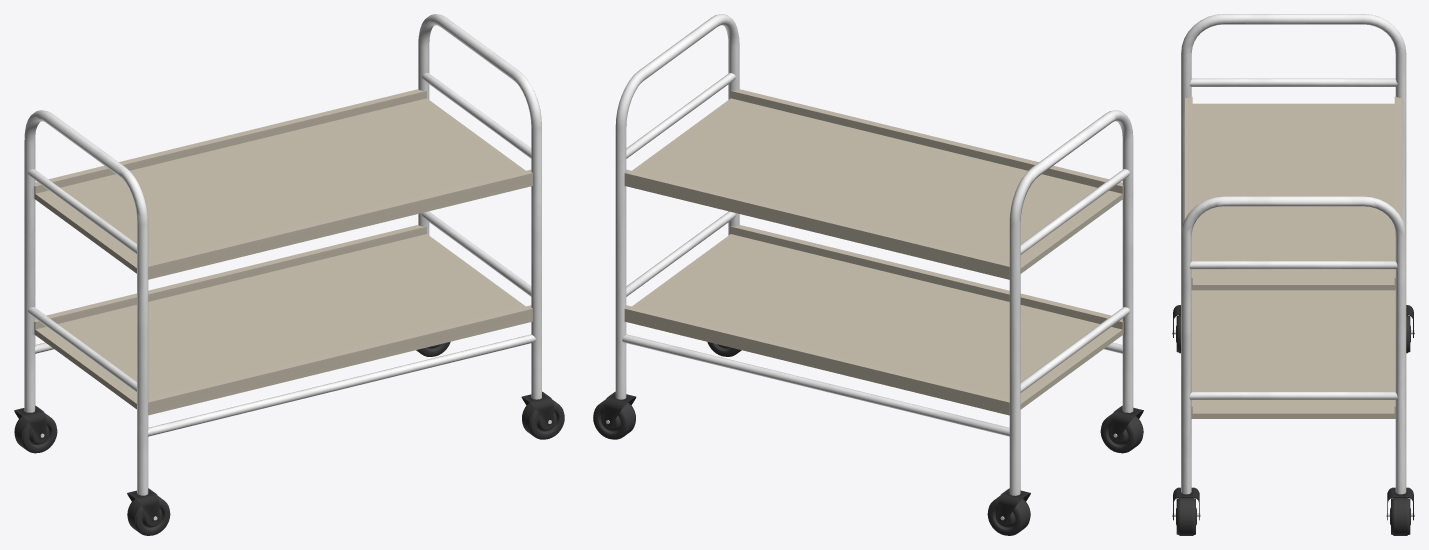
Rendered from Trolley.fbx.
3 views of the same model, side by side, from view 1: azimuth 30°, elevation 25°; view 2: azimuth 150°, elevation 25°; view 3: azimuth 270°, elevation 25° (orthographic). The views are drawn at different scales.
Parts seen in each view (by area): view 1: Trolley1; view 2: Trolley1; view 3: Trolley1.
Part boxes in pixels (x1,y1,x2,y2): Trolley1: (14, 14, 564, 535); Trolley1: (593, 14, 1143, 535); Trolley1: (1172, 14, 1414, 535).
Bounding box in the file's own units: 132 × 103 × 67.94.
